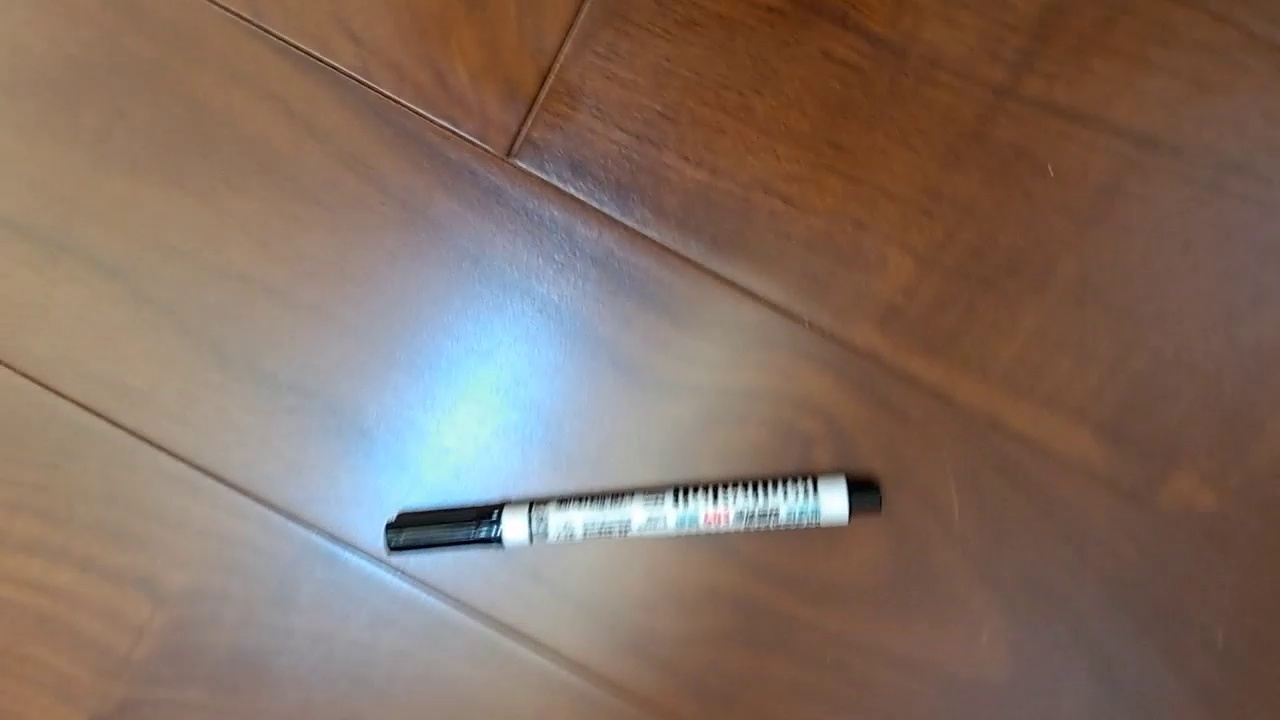pen: (383, 469, 883, 556)
